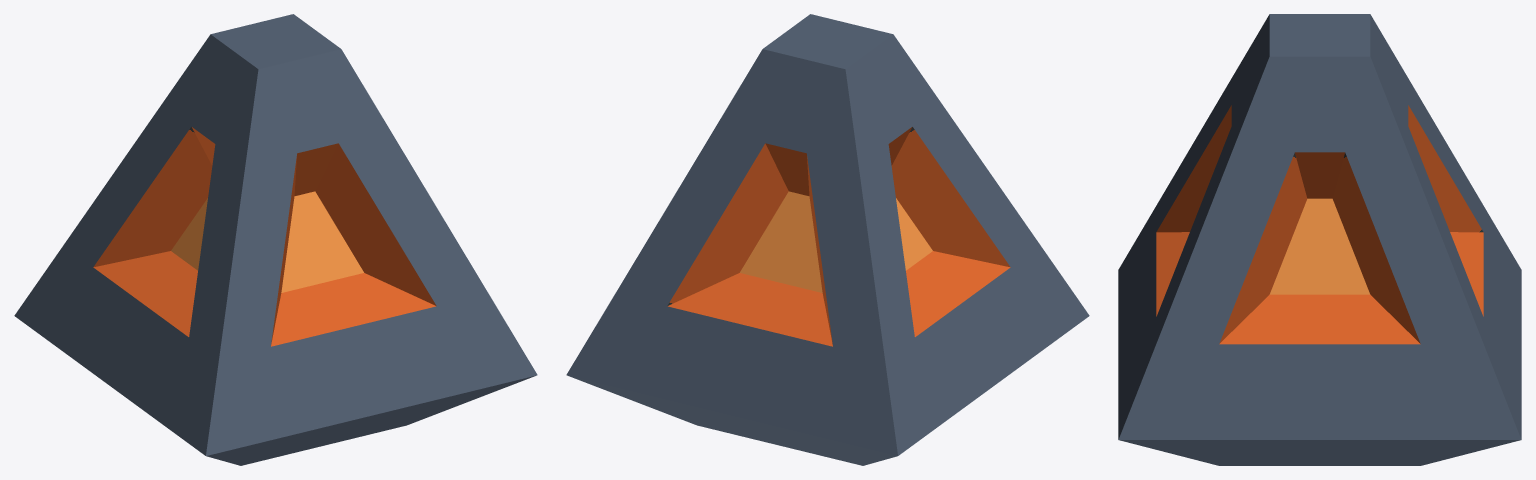
File: jumpjet.gltf
3 renders of one model, left to right at view 1: azimuth 30°, elevation 25°; view 2: azimuth 150°, elevation 25°; view 3: azimuth 270°, elevation 25°, orthographic. The views are drawn at different scales.
Visible parts, largest first — view 1: cuboid; view 2: cuboid; view 3: cuboid.
Boxes of the visible parts, <box> form: cuboid: <box>14,14,537,465</box>; cuboid: <box>566,14,1089,465</box>; cuboid: <box>1118,14,1521,465</box>.
Bounding box in the file's own units: 0.25 × 0.2656 × 0.25.
Materials: 1 (1 with a texture image).
